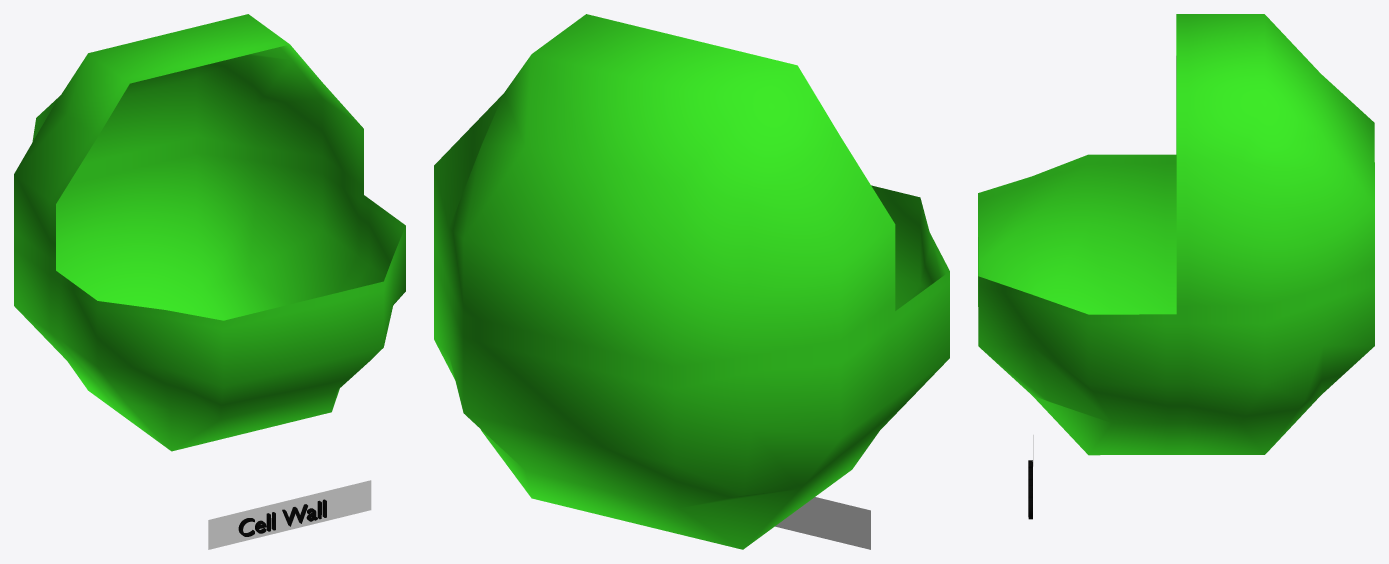
The model's file is cellwall1.gltf.
3 views of the same model, side by side, from view 1: azimuth 30°, elevation 25°; view 2: azimuth 150°, elevation 25°; view 3: azimuth 270°, elevation 25° (orthographic). The views are drawn at different scales.
Parts seen in each view (by area): view 1: Outside.003, Plane.034, Text.019; view 2: Outside.003, Plane.034; view 3: Outside.003.
Part boxes in pixels (<box>): Outside.003: <box>14,14,405,451</box>; Plane.034: <box>208,480,371,549</box>; Text.019: <box>238,499,326,536</box>; Outside.003: <box>434,14,949,549</box>; Plane.034: <box>775,497,870,549</box>; Outside.003: <box>978,14,1374,455</box>.
Size of the model in its own units: 2.62 by 3.4 by 2.75.
